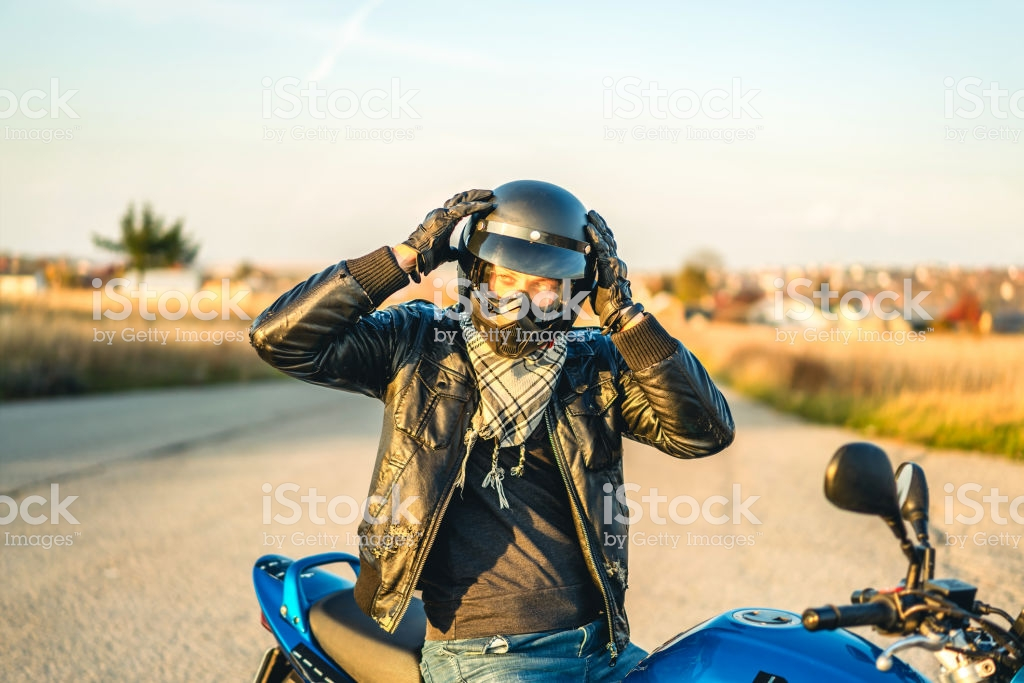helmet: (446, 170, 607, 300)
